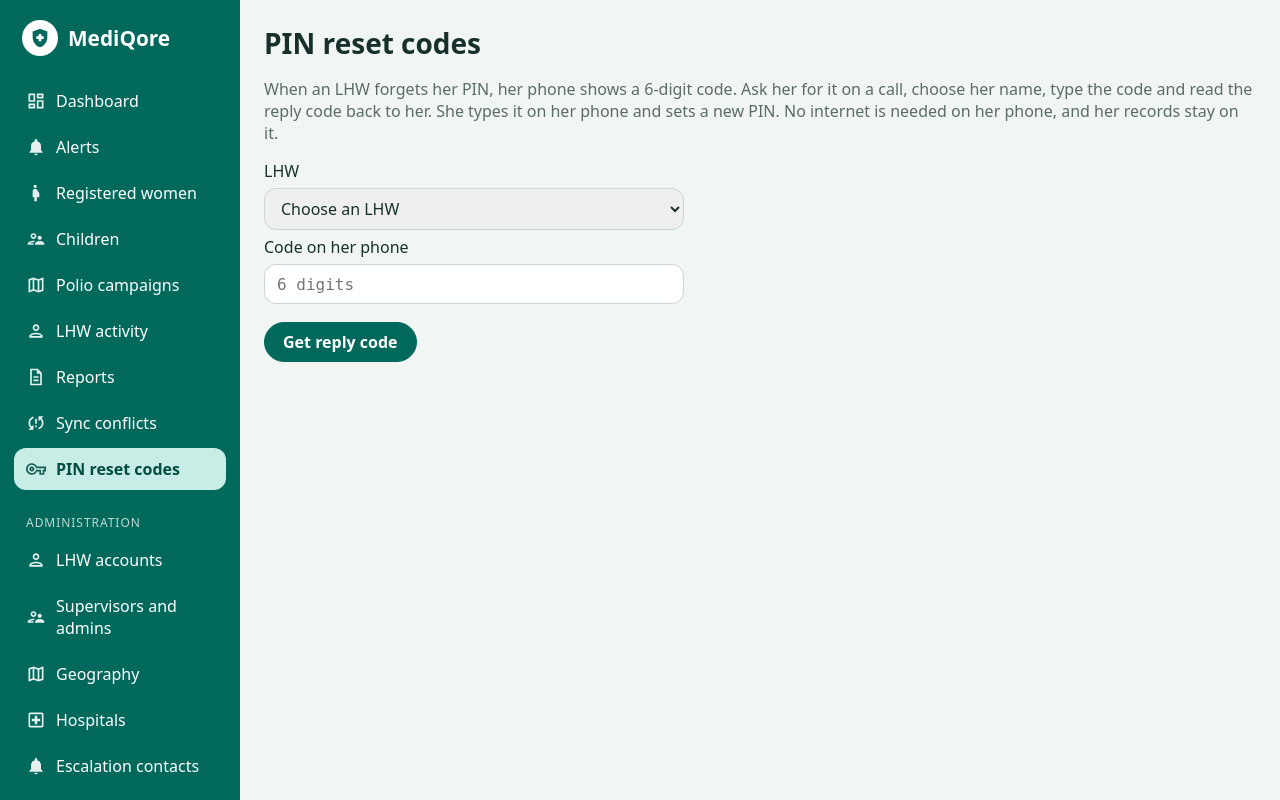
Test: PIN reset codes (M1 FE-2) › says when the LHW has no activated phone
Select "LHW-00007 · Sana Iqbal" in the dropdown labelled "LHW". click: coordinates (474, 209)
box: x1=264 y1=188 x2=684 y2=230
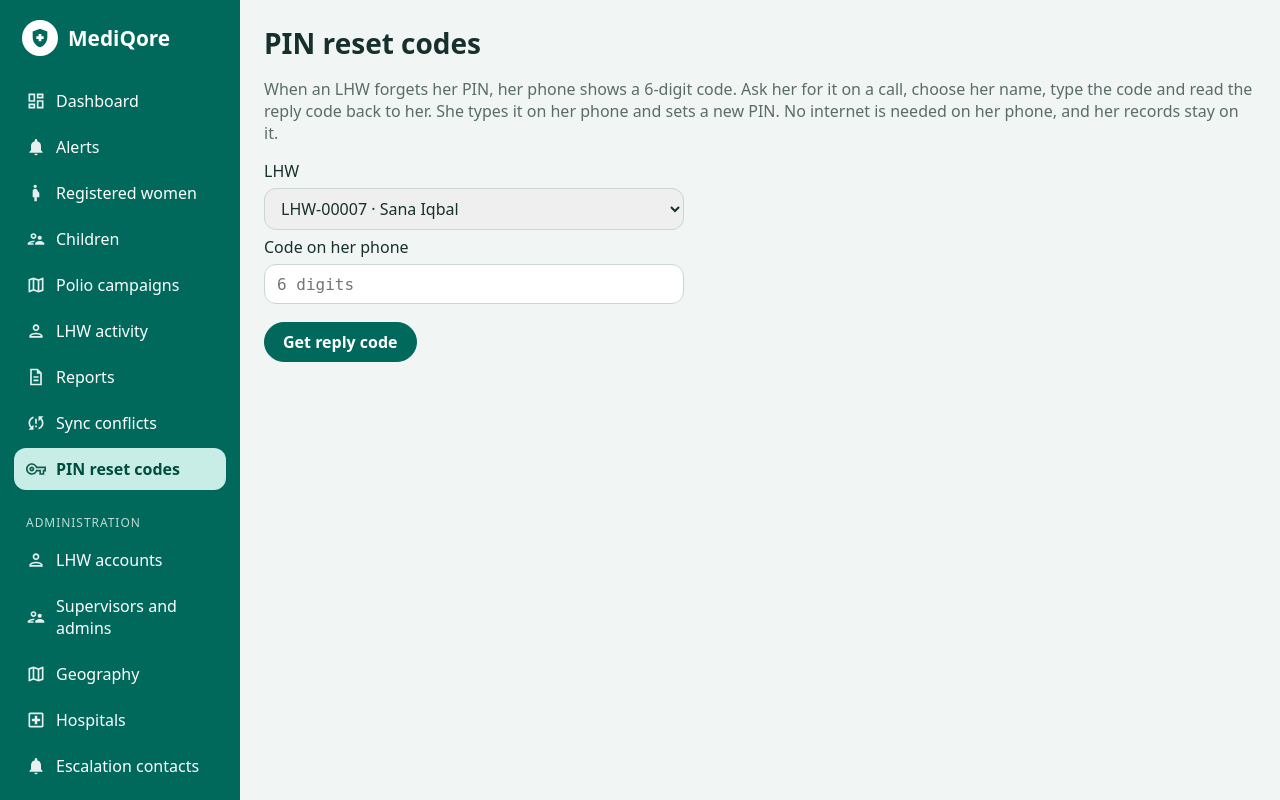
Type "483917" into the field labelled "Code on her phone". click: coordinates (474, 284)
box: x1=264 y1=264 x2=684 y2=304
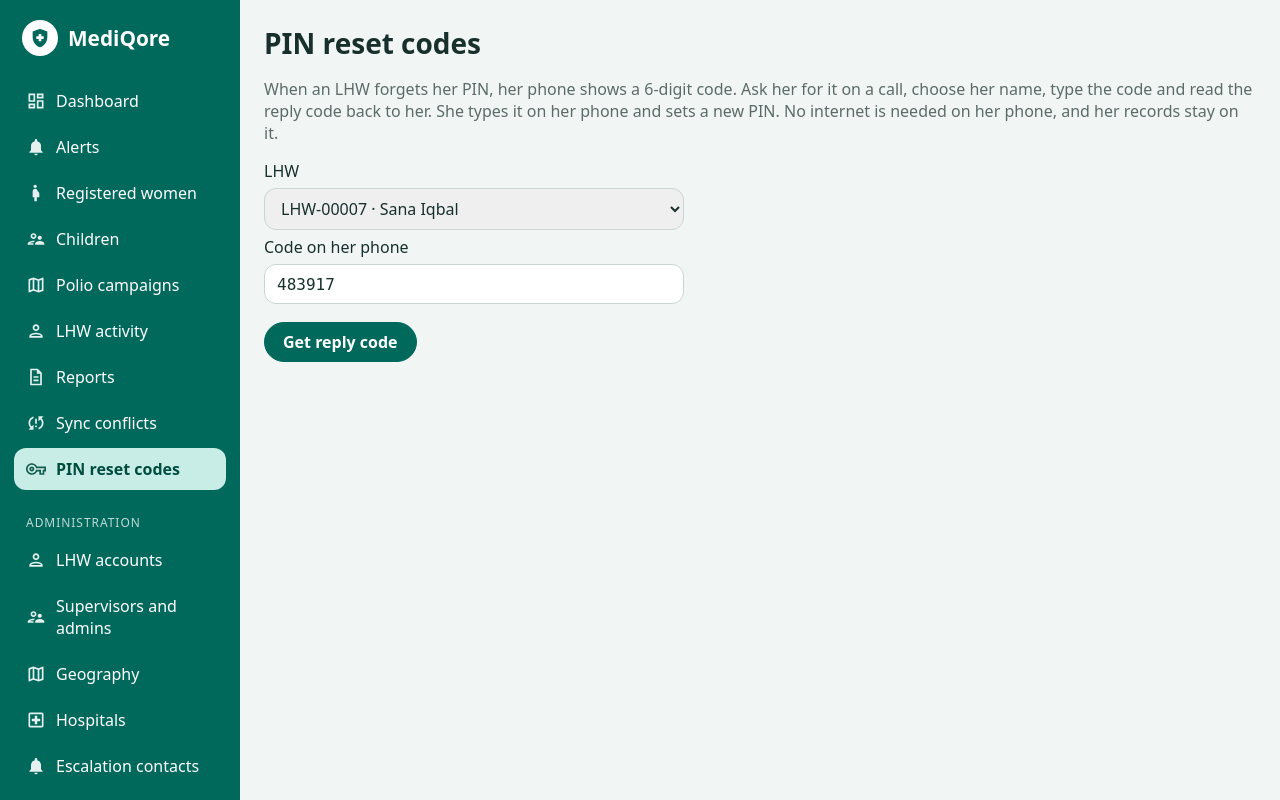
Click the button "Get reply code". click: coordinates (340, 342)
box: x1=264 y1=322 x2=416 y2=362
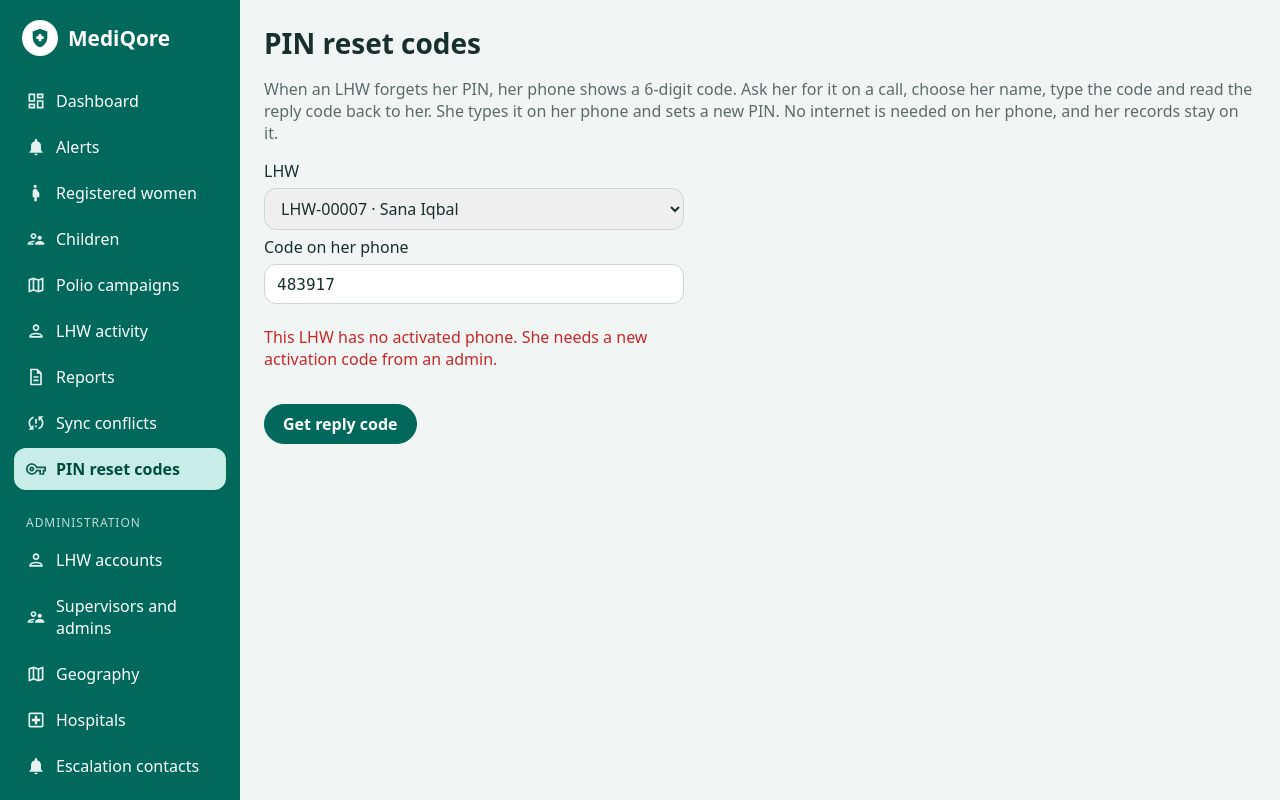
Expected: the message shows "needs a new activation code", x1=264 y1=326 x2=647 y2=370
